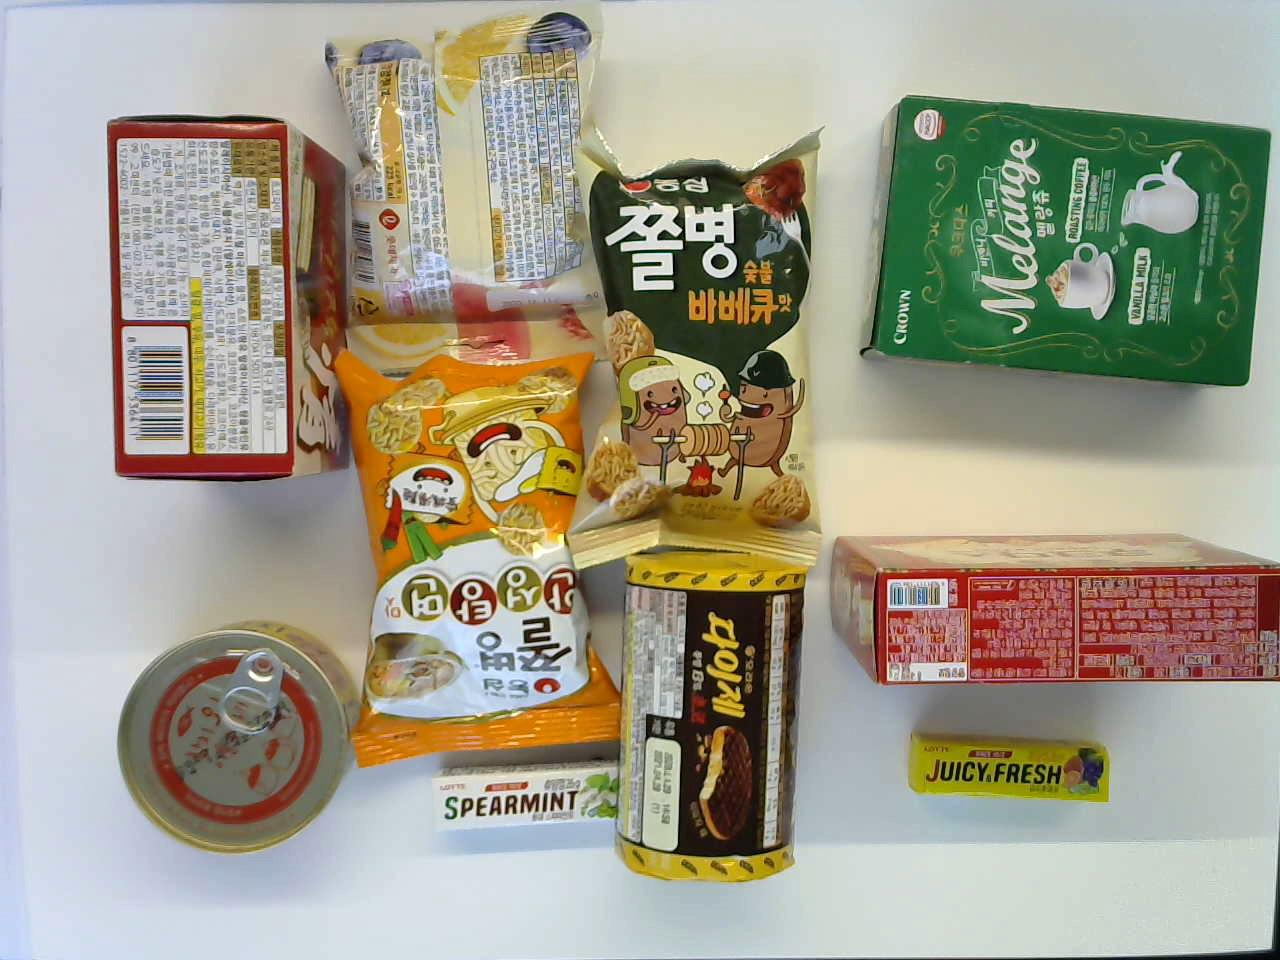chocopie: (98, 107, 352, 483)
couque_coffee: (858, 94, 1272, 405)
couque_white: (836, 530, 1279, 684)
diget_choco: (617, 553, 798, 886)
gumi_gumi: (314, 7, 600, 323)
jjolbyung_noodle: (352, 340, 593, 768)
jjolbyung_ori: (563, 124, 831, 567)
juicyfresh: (901, 729, 1114, 803)
spearmint: (427, 753, 615, 841)
tuna: (99, 621, 366, 866)
